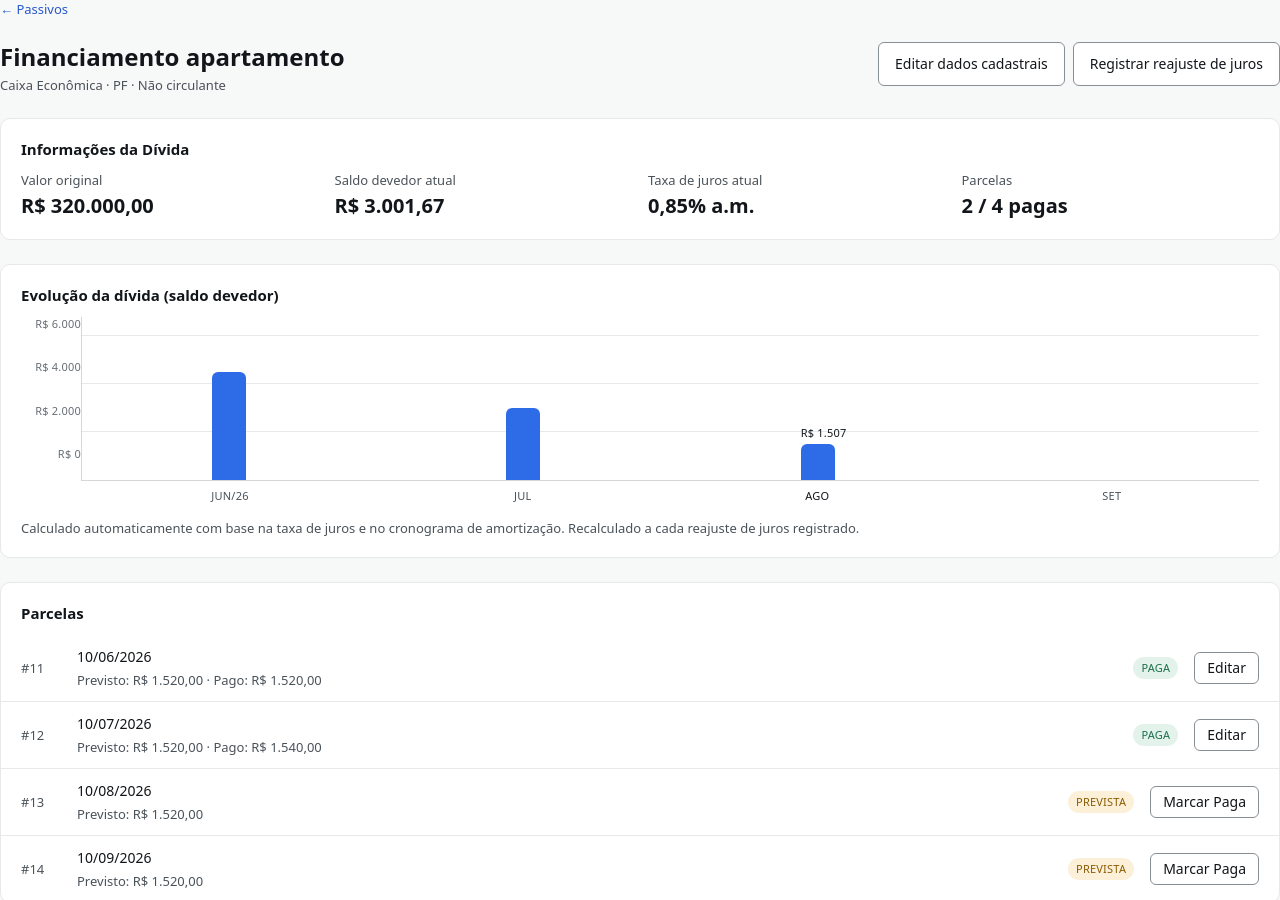
Test case: Detalhe do Passivo — "Editar dados cadastrais" (Figma 91:2 nó 91:43) › edita o que não muda número nenhum: Nome, Credor / Instituição, Valor da parcela
Click the button "Editar dados cadastrais": (971,64) [878, 42, 1065, 86]
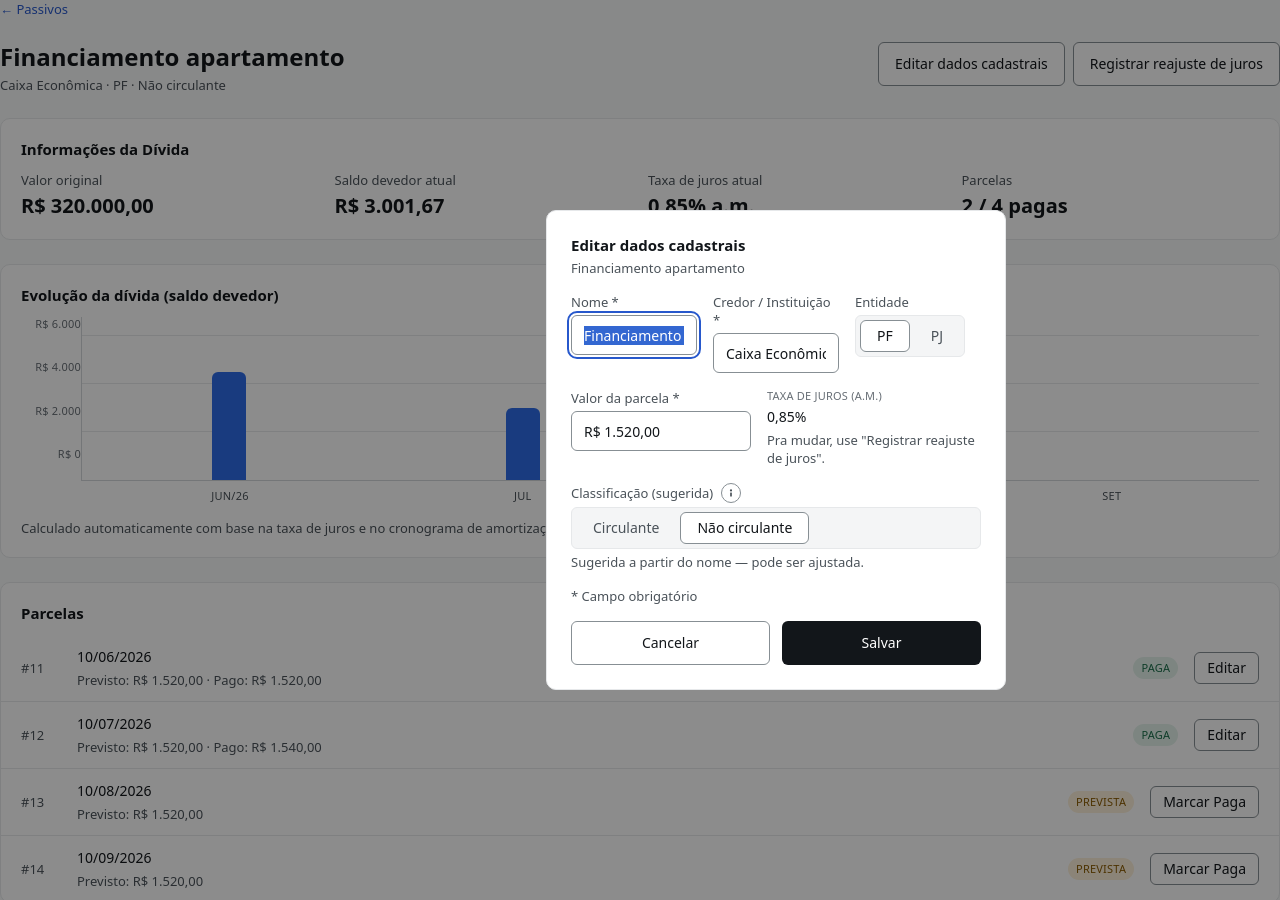
Check: the text "Nome" is shown, box [571, 293, 608, 311]
Check: the text "Credor / Instituição" is shown, box [713, 293, 831, 311]
Check: the text "Valor da parcela" is shown, box [571, 389, 669, 407]
